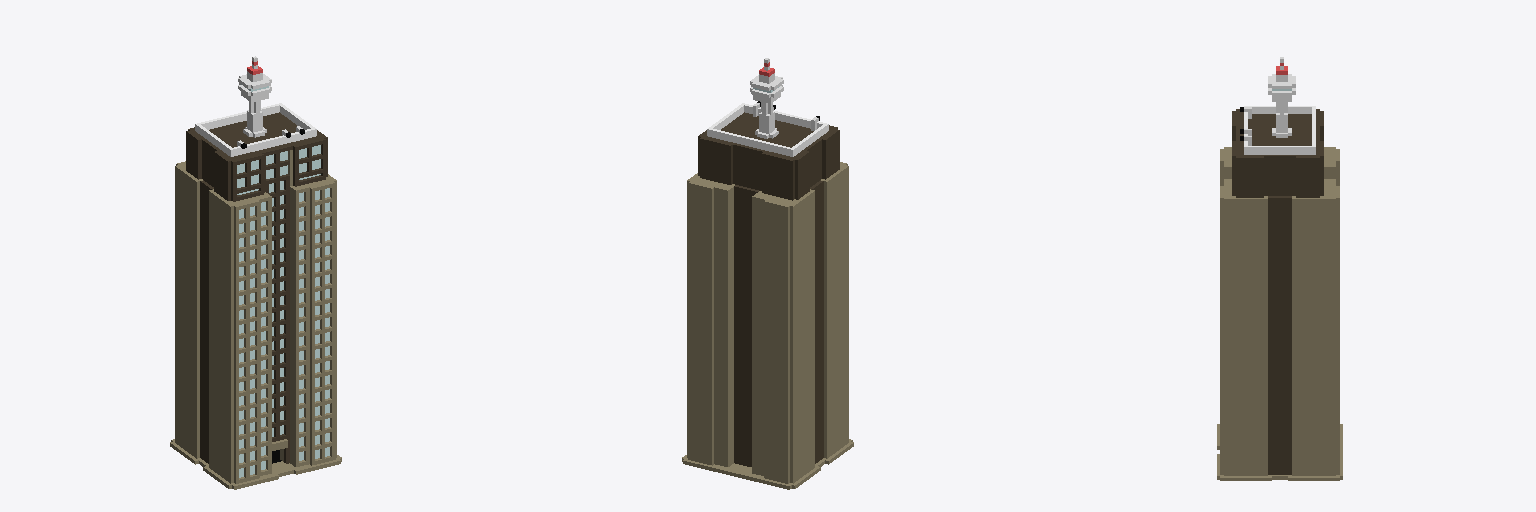
The picture shows the model from 3 angles: view 1: azimuth 30°, elevation 25°; view 2: azimuth 150°, elevation 25°; view 3: azimuth 270°, elevation 25°; orthographic projection.
Size of the model in its own units: 33 by 110 by 32.
1 materials, 1 textured.